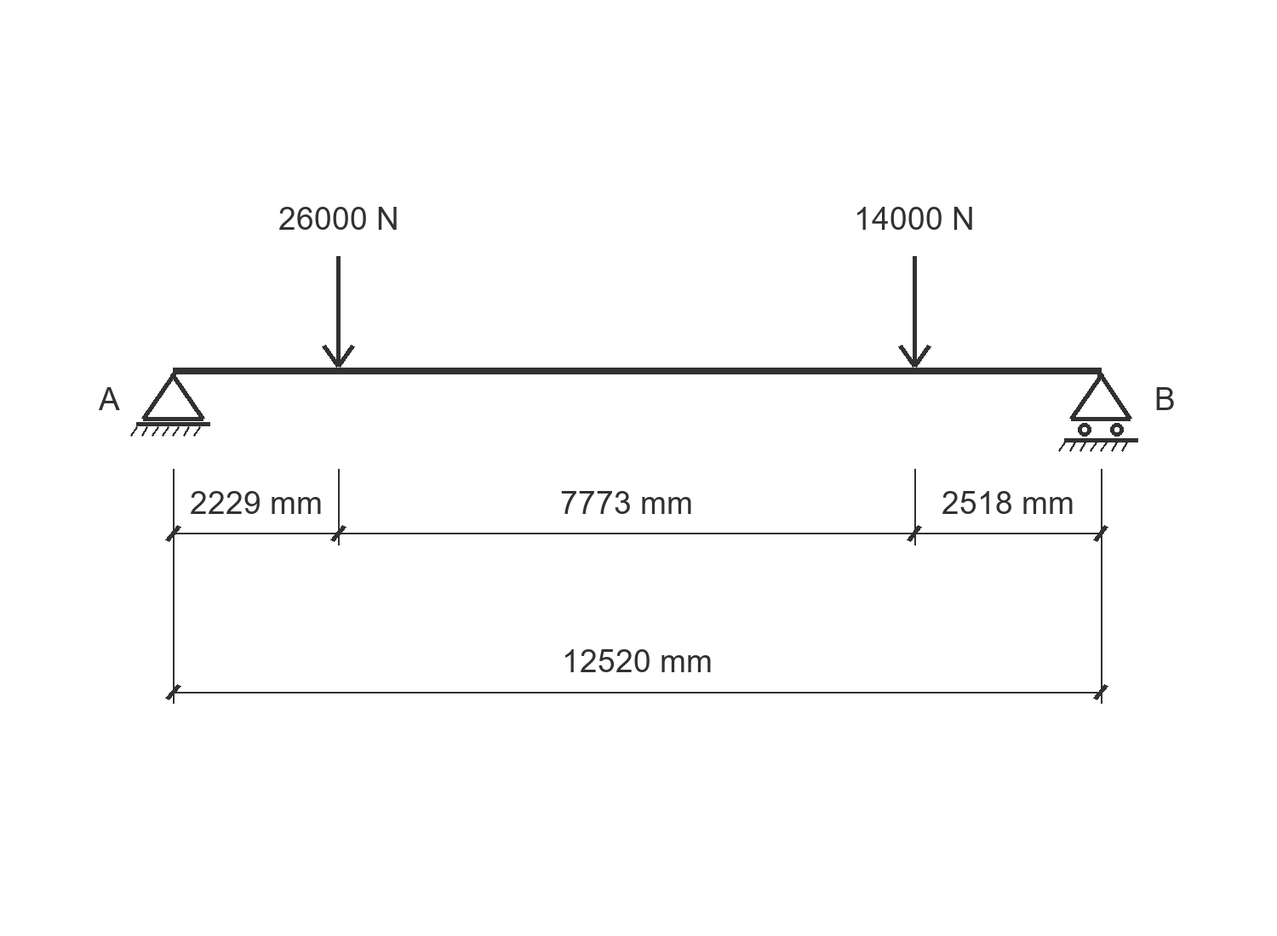pin_support: (130, 373, 210, 437)
point_load: (322, 256, 355, 368), (898, 256, 931, 368)
roller_support: (1058, 373, 1138, 452)
